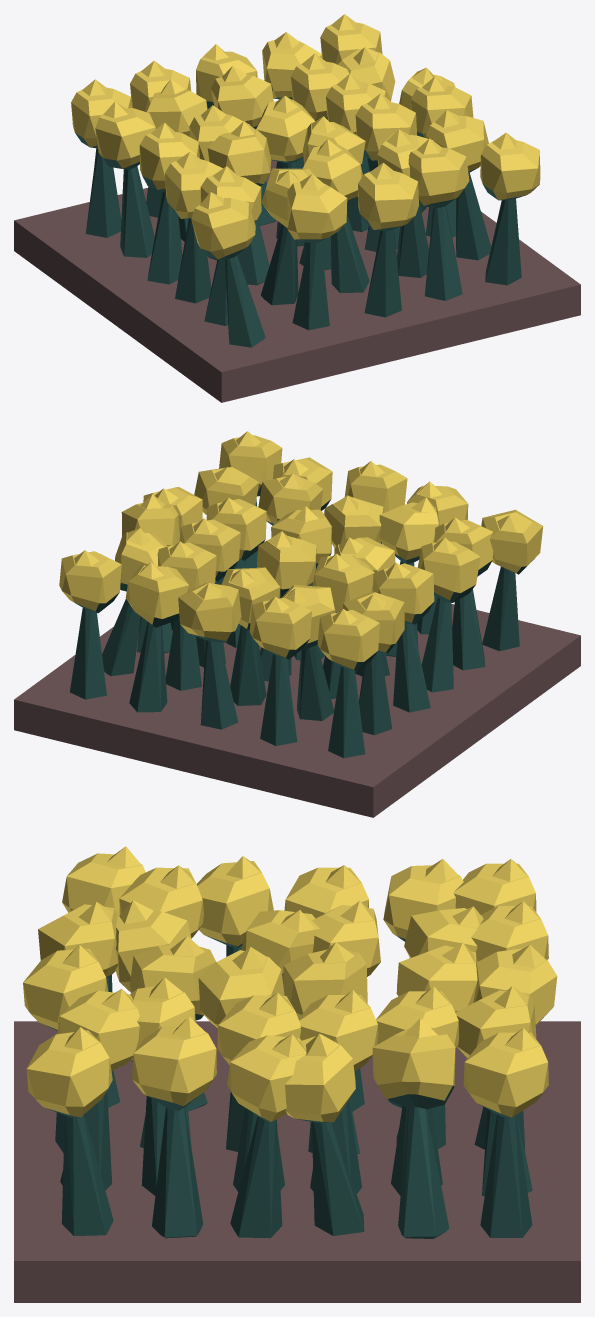
The model's file is field_grown.fbx.
3 renders of one model, top to bottom at view 1: azimuth 30°, elevation 25°; view 2: azimuth 150°, elevation 25°; view 3: azimuth 270°, elevation 25°, orthographic. The views are drawn at different scales.
Parts seen in each view (by area): view 1: base field grown.002; view 2: base field grown.002; view 3: base field grown.002.
Part boxes in pixels (x1,y1,x2,y2): base field grown.002: (14, 14, 580, 402); base field grown.002: (14, 431, 580, 817); base field grown.002: (14, 846, 580, 1302).
Bounding box in the file's own units: 100 × 100 × 47.16.
